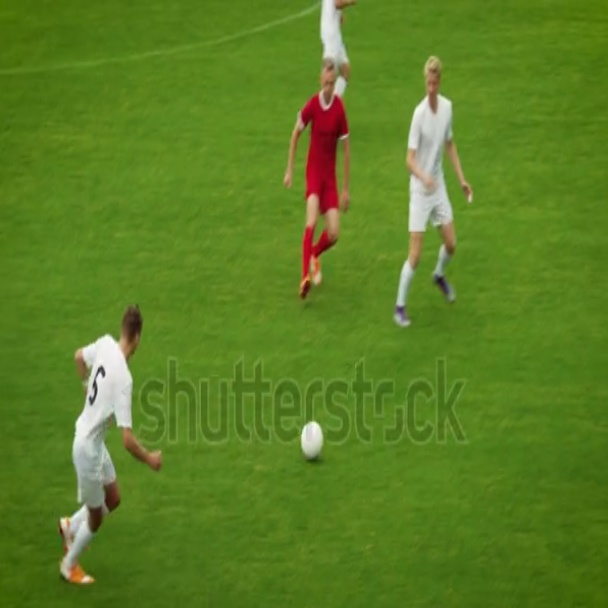ball: (296, 418, 328, 467)
